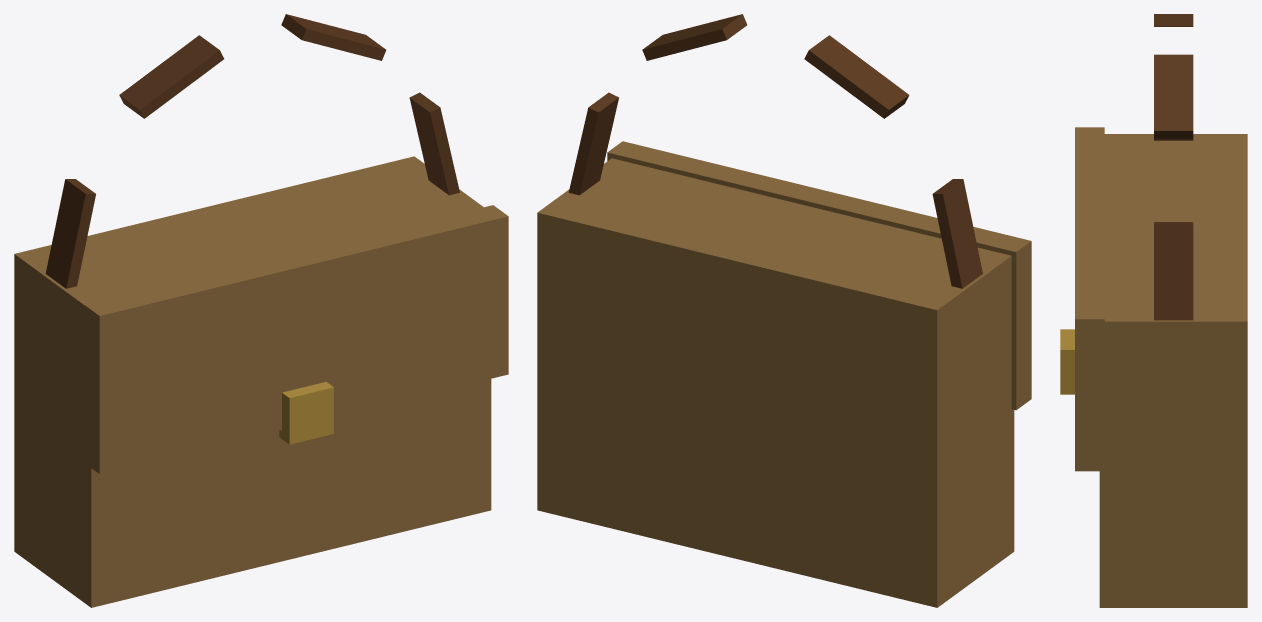
File: Prop_Par_MailBag_LOD1.glb
3 views of the same model, side by side, from view 1: azimuth 30°, elevation 25°; view 2: azimuth 150°, elevation 25°; view 3: azimuth 270°, elevation 25° (orthographic). The views are drawn at different scales.
Visible parts, largest first — view 1: Prop_Par_MailBag; view 2: Prop_Par_MailBag; view 3: Prop_Par_MailBag.
Part boxes in pixels (<box>): Prop_Par_MailBag: <box>14,14,508,607</box>; Prop_Par_MailBag: <box>537,14,1031,607</box>; Prop_Par_MailBag: <box>1060,14,1247,607</box>.
Bounding box in the file's own units: 0.46 × 0.5363 × 0.19.
